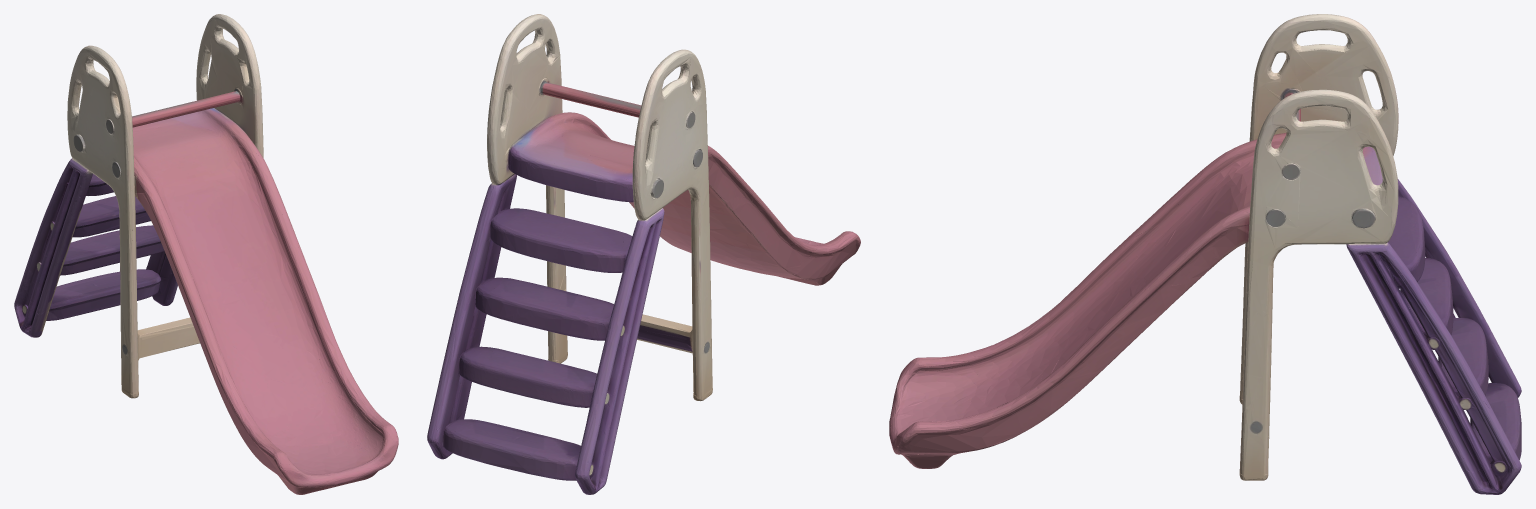
File: play-slide.glb
3 renders of one model, left to right at view 1: azimuth 30°, elevation 25°; view 2: azimuth 150°, elevation 25°; view 3: azimuth 270°, elevation 25°, orthographic. The views are drawn at different scales.
Parts seen in each view (by area): view 1: material; view 2: material; view 3: material.
Part boxes in pixels (bbox=[...]): material: bbox=[14, 14, 398, 494]; material: bbox=[427, 14, 860, 494]; material: bbox=[889, 14, 1521, 494].
Bounding box in the file's own units: 0.313 × 0.6983 × 0.9925.
1 material, 1 textured.
